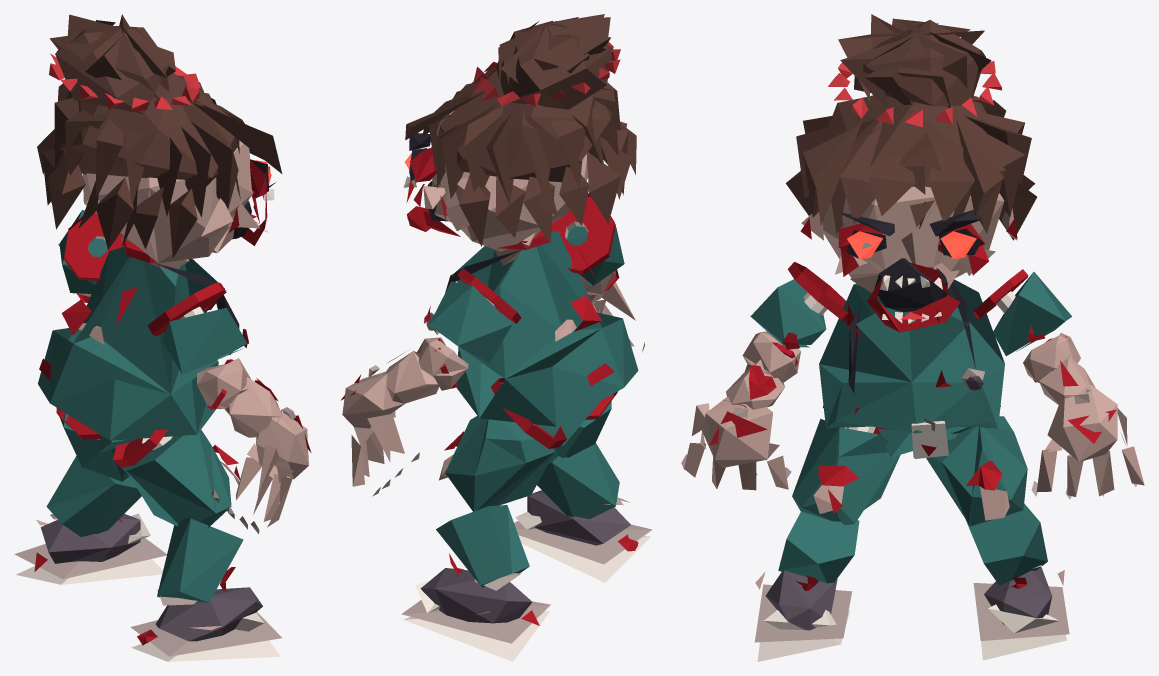
The model's file is inf.nurse.lod2.glb.
3 renders of one model, left to right at view 1: azimuth 30°, elevation 25°; view 2: azimuth 150°, elevation 25°; view 3: azimuth 270°, elevation 25°, orthographic.
Parts seen in each view (by area): view 1: head, torso, footR, legR, footL, armR, shinR, handR, shinL, foreArmR, stump_armL, legL (+4 smaller); view 2: head, torso, footL, legL, footR, armL, shinL, handL, shinR, stump_armR, foreArmL, armR (+5 smaller); view 3: head, torso, legR, legL, handL, footR, footL, handR, armL, armR, shinR, shinL (+5 smaller).
Boxes of the visible parts, left/top/right/bottom form: head: left=37, top=14, right=282, bottom=269; torso: left=38, top=247, right=239, bottom=440; footR: left=130, top=587, right=281, bottom=661; legR: left=121, top=429, right=240, bottom=527; footL: left=14, top=513, right=166, bottom=584; armR: left=162, top=307, right=250, bottom=409; shinR: left=157, top=518, right=243, bottom=602; handR: left=211, top=411, right=311, bottom=533; shinL: left=46, top=456, right=141, bottom=537; foreArmR: left=224, top=377, right=295, bottom=437; stump_armL: left=64, top=213, right=124, bottom=280; legL: left=60, top=413, right=129, bottom=481; head: left=403, top=14, right=636, bottom=265; torso: left=426, top=226, right=638, bottom=426; footL: left=401, top=568, right=550, bottom=661; legL: left=439, top=416, right=554, bottom=511; footR: left=514, top=490, right=652, bottom=582; armL: left=417, top=281, right=512, bottom=390; shinL: left=436, top=505, right=529, bottom=587; handL: left=340, top=371, right=419, bottom=496; shinR: left=537, top=443, right=619, bottom=519; stump_armR: left=551, top=193, right=615, bottom=274; foreArmL: left=368, top=351, right=439, bottom=403; armR: left=567, top=226, right=624, bottom=295; head: left=785, top=14, right=1036, bottom=332; torso: left=819, top=279, right=1004, bottom=458; legR: left=792, top=418, right=900, bottom=525; legL: left=926, top=416, right=1027, bottom=526; handL: left=1031, top=384, right=1144, bottom=499; footR: left=754, top=561, right=852, bottom=661; footL: left=973, top=565, right=1069, bottom=660; handR: left=681, top=396, right=791, bottom=490; armL: left=993, top=272, right=1080, bottom=382; armR: left=742, top=279, right=826, bottom=382; shinR: left=778, top=511, right=859, bottom=590; shinL: left=966, top=503, right=1047, bottom=590.
Size of the model in its own units: 0.6556 by 1.76 by 1.25.
